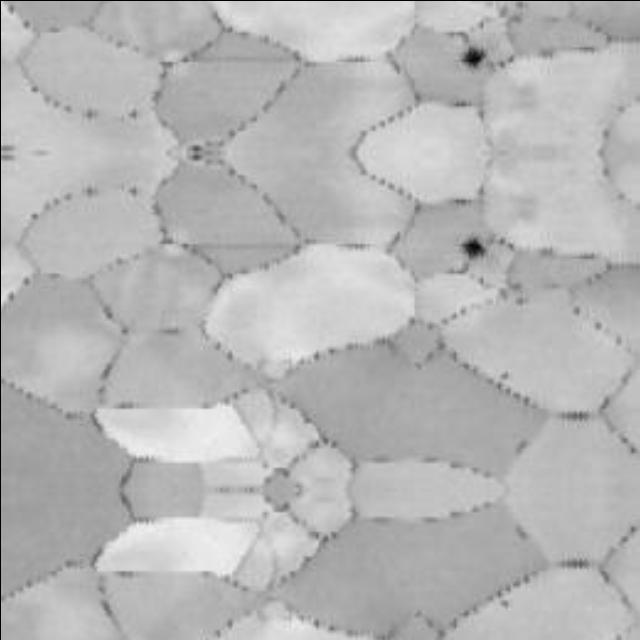good_void: (459, 233, 488, 255), (459, 47, 488, 69)
